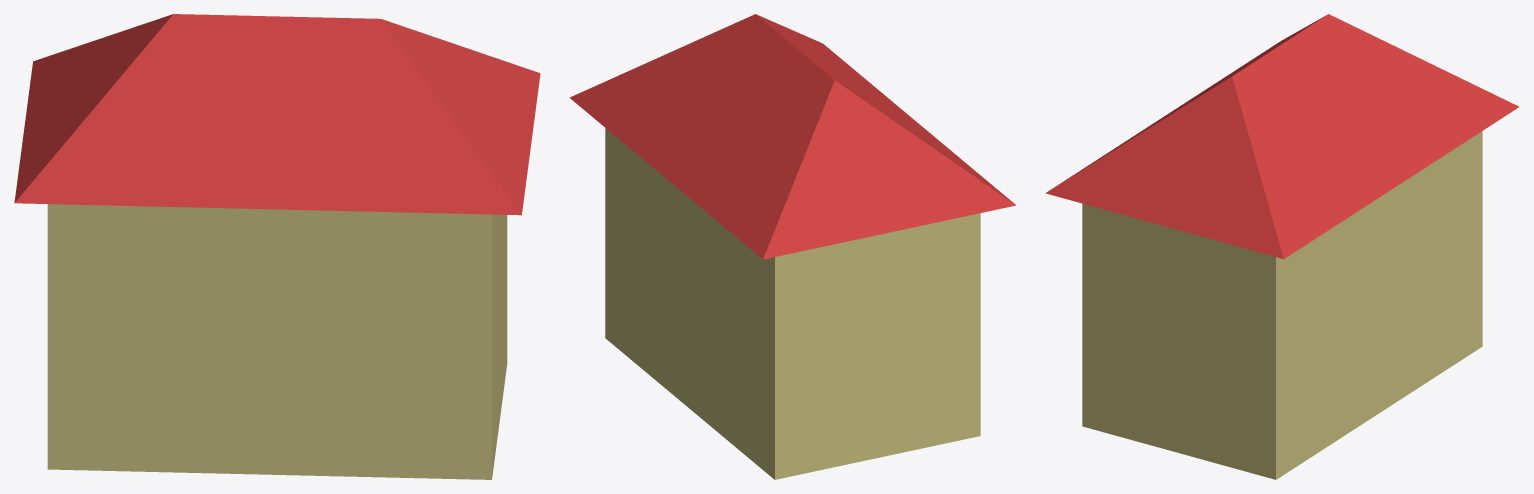
3 views of the same model, side by side, from view 1: azimuth 30°, elevation 25°; view 2: azimuth 150°, elevation 25°; view 3: azimuth 270°, elevation 25° (orthographic). The views are drawn at different scales.
Parts seen in each view (by area): view 1: group_5, group_3, group_4; view 2: group_5, group_3, group_4; view 3: group_5, group_3, group_4.
Boxes of the visible parts, x1,y1,x2,y2 form: group_5: [47, 204, 507, 479]; group_3: [14, 14, 540, 215]; group_4: [14, 51, 521, 214]; group_5: [605, 128, 980, 479]; group_3: [572, 14, 1015, 255]; group_4: [570, 83, 1015, 259]; group_5: [1082, 131, 1482, 479]; group_3: [1046, 14, 1482, 259]; group_4: [1045, 37, 1519, 258].
Size of the model in its own units: 19.23 by 17.66 by 13.99.
